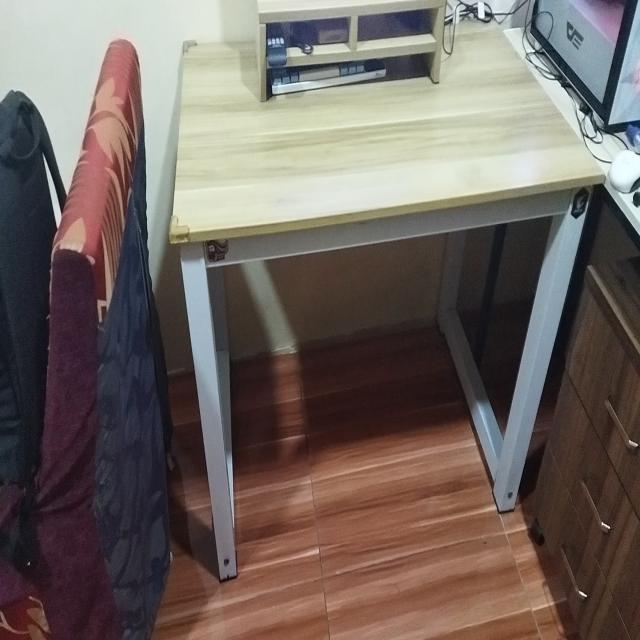table: (171, 26, 594, 566)
